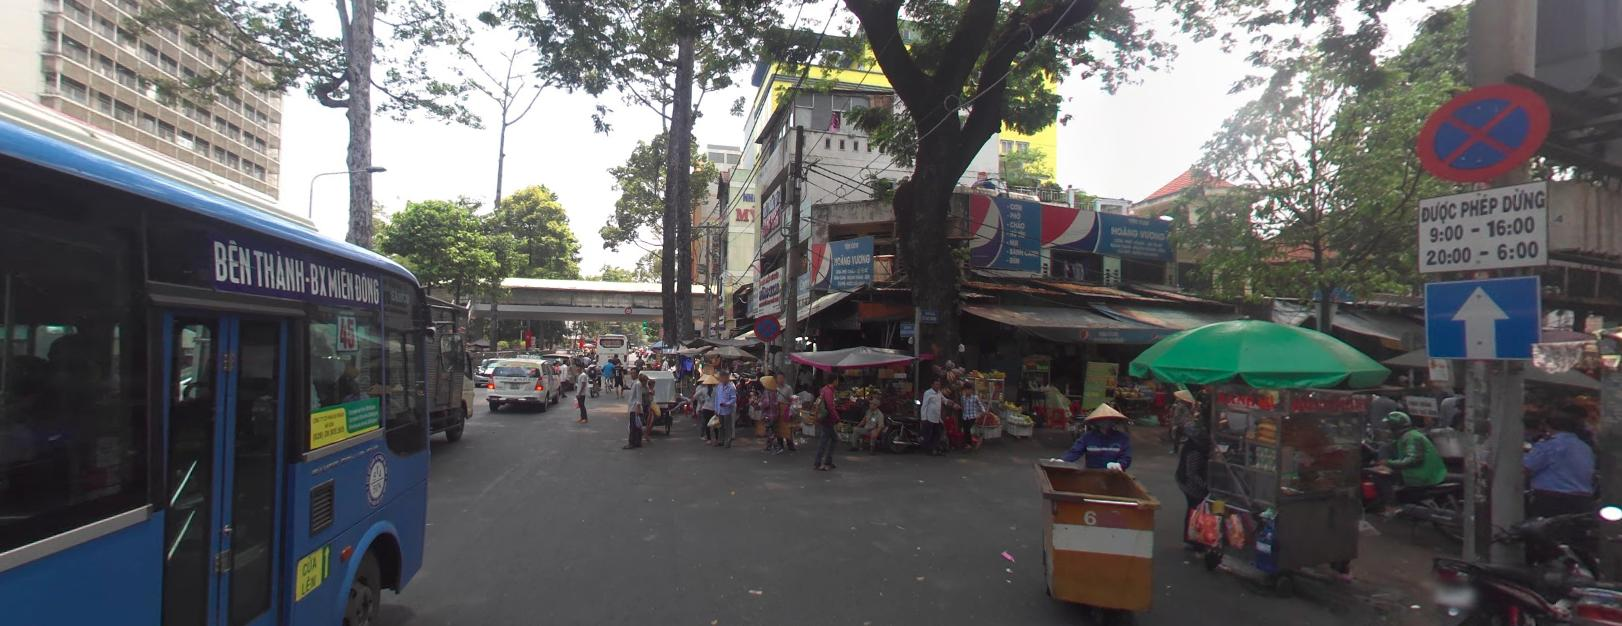Cam con lai: (624, 305, 631, 312)
Cam dung va do: (1412, 81, 1546, 182), (753, 312, 779, 339)
